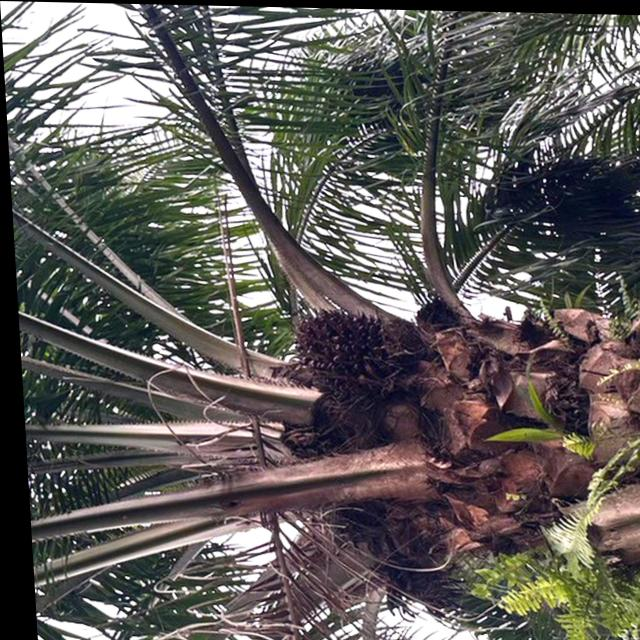ripe: (274, 297, 399, 417)
